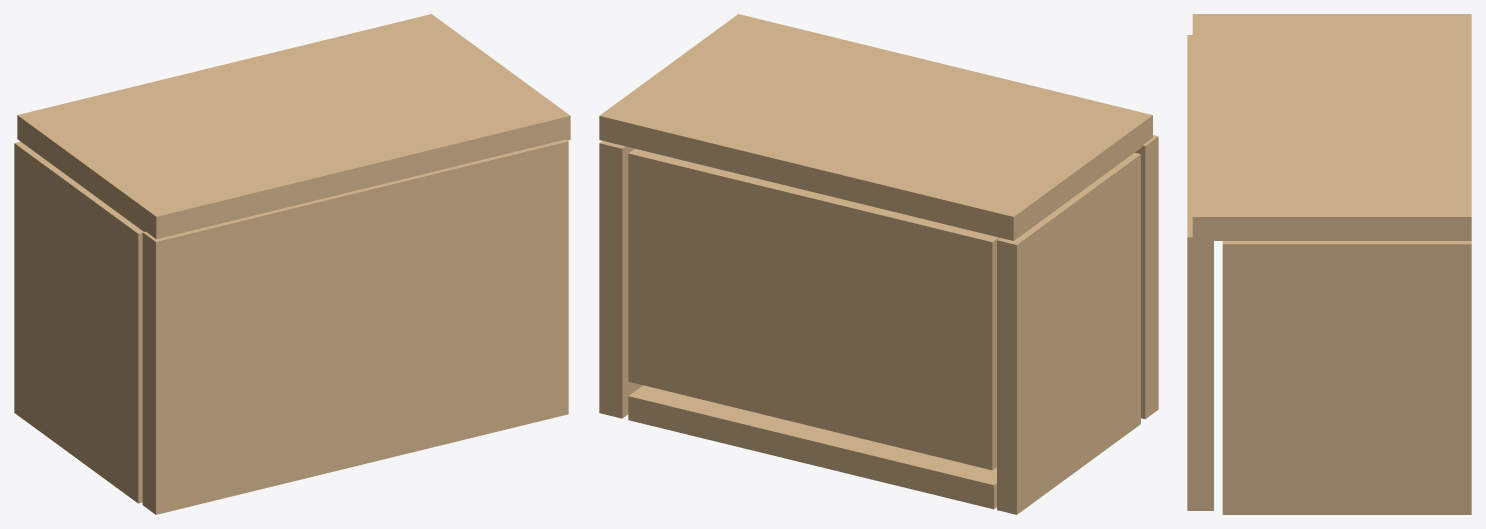
File: tinker.obj
The picture shows the model from 3 angles, left to right: view 1: azimuth 30°, elevation 25°; view 2: azimuth 150°, elevation 25°; view 3: azimuth 270°, elevation 25°; orthographic projection.
Visible parts, largest first — view 1: obj_0; view 2: obj_0; view 3: obj_0.
Boxes of the visible parts, bbox=[...] form: obj_0: bbox=[14, 14, 570, 514]; obj_0: bbox=[599, 14, 1158, 514]; obj_0: bbox=[1187, 14, 1471, 514].
Bounding box in the file's own units: 272 × 185 × 160.
